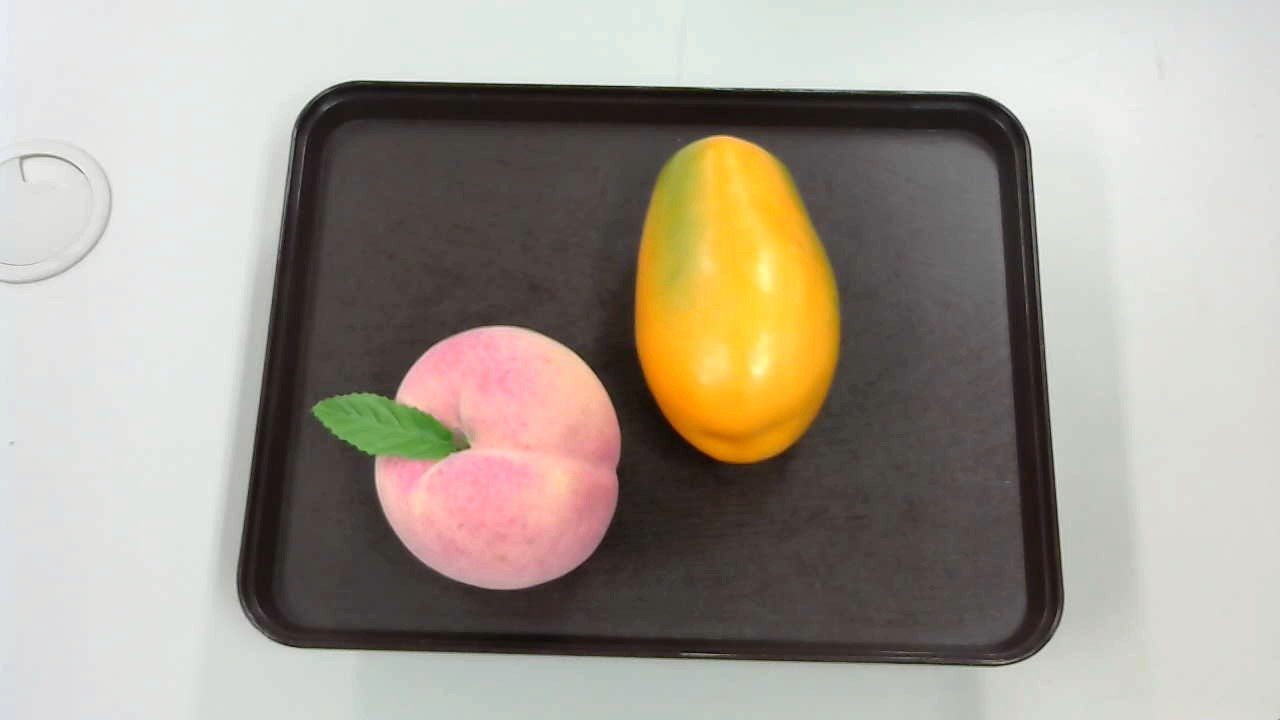papya: (628, 135, 837, 472)
peach: (305, 318, 619, 595)
